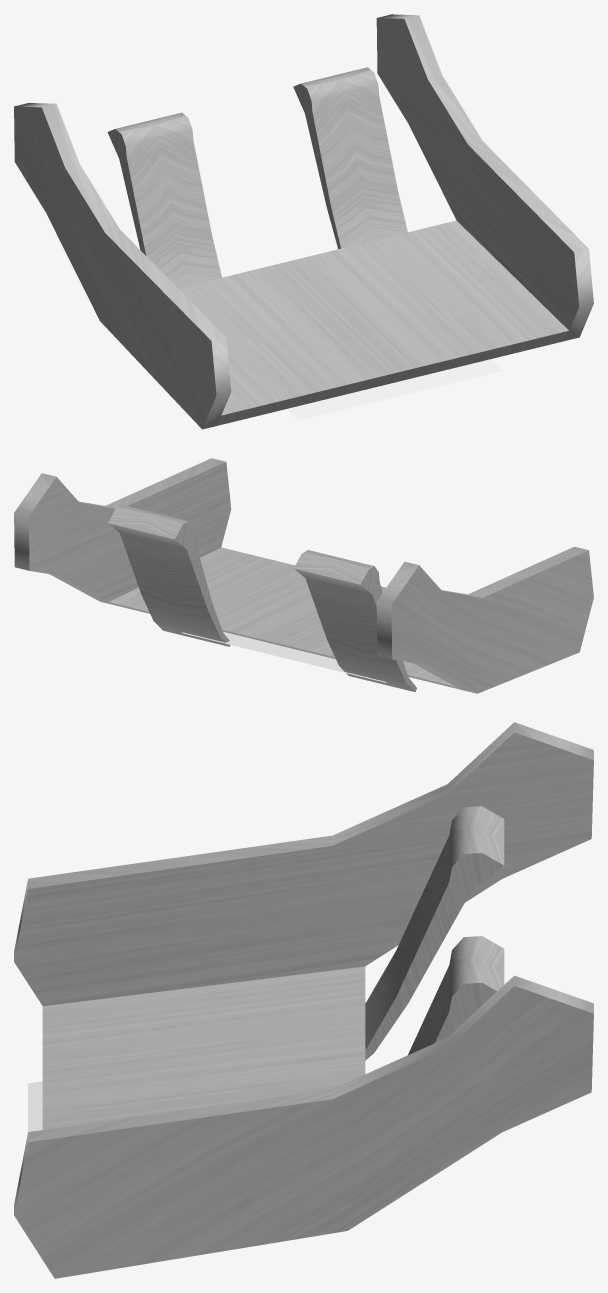
The model's file is Buckle.obj.
3 renders of one model, top to bottom at view 1: azimuth 30°, elevation 25°; view 2: azimuth 150°, elevation 25°; view 3: azimuth 270°, elevation 25°, orthographic. The views are drawn at different scales.
Parts seen in each view (by area): view 1: Buckle, PlaceHolder; view 2: Buckle, PlaceHolder; view 3: Buckle, PlaceHolder.
Part boxes in pixels (left/top/right/bottom): Buckle: left=14, top=14, right=593, bottom=429; PlaceHolder: left=287, top=359, right=502, bottom=420; Buckle: left=14, top=458, right=593, bottom=693; PlaceHolder: left=182, top=632, right=386, bottom=682; Buckle: left=14, top=722, right=593, bottom=1278; PlaceHolder: left=28, top=1081, right=42, bottom=1131.
Bounding box in the file's own units: 1.84 × 0.9816 × 1.71.
Materials: 2 (1 with a texture image).
